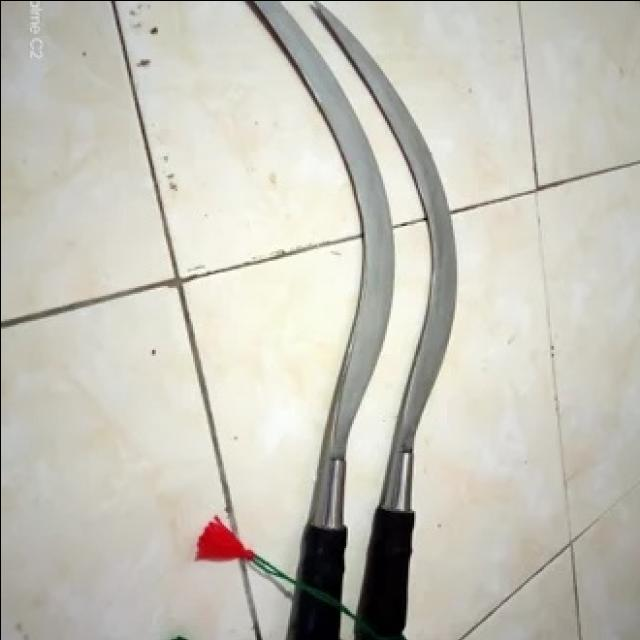Celurit: (304, 1, 459, 640)
